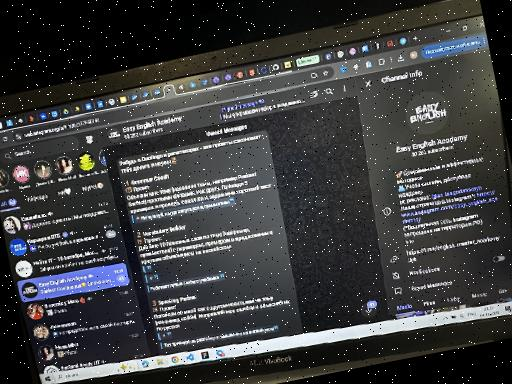telegram: (0, 55, 512, 384)
